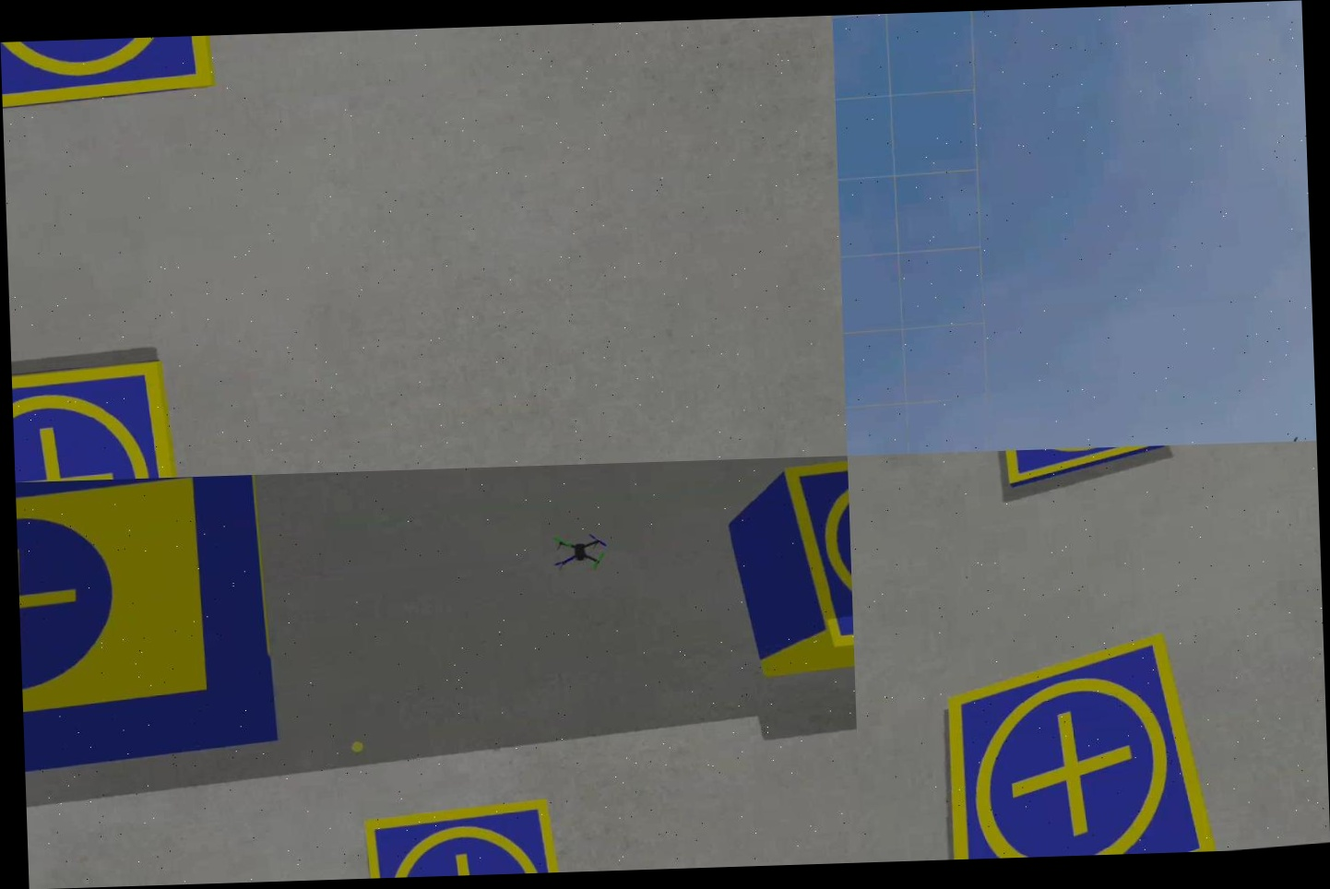large_base: (16, 474, 283, 780)
small_base: (929, 628, 1212, 859), (11, 358, 186, 482), (364, 797, 572, 878), (0, 35, 218, 112), (781, 456, 854, 653), (995, 444, 1189, 492)
